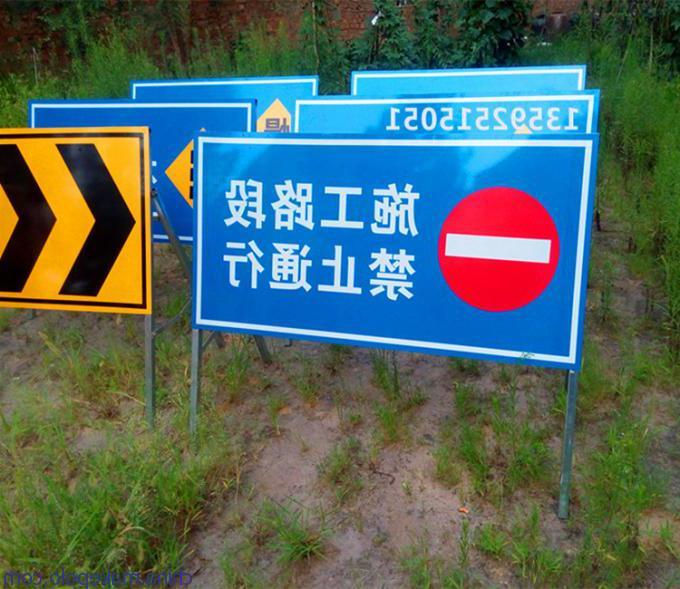sign: (197, 139, 589, 364)
